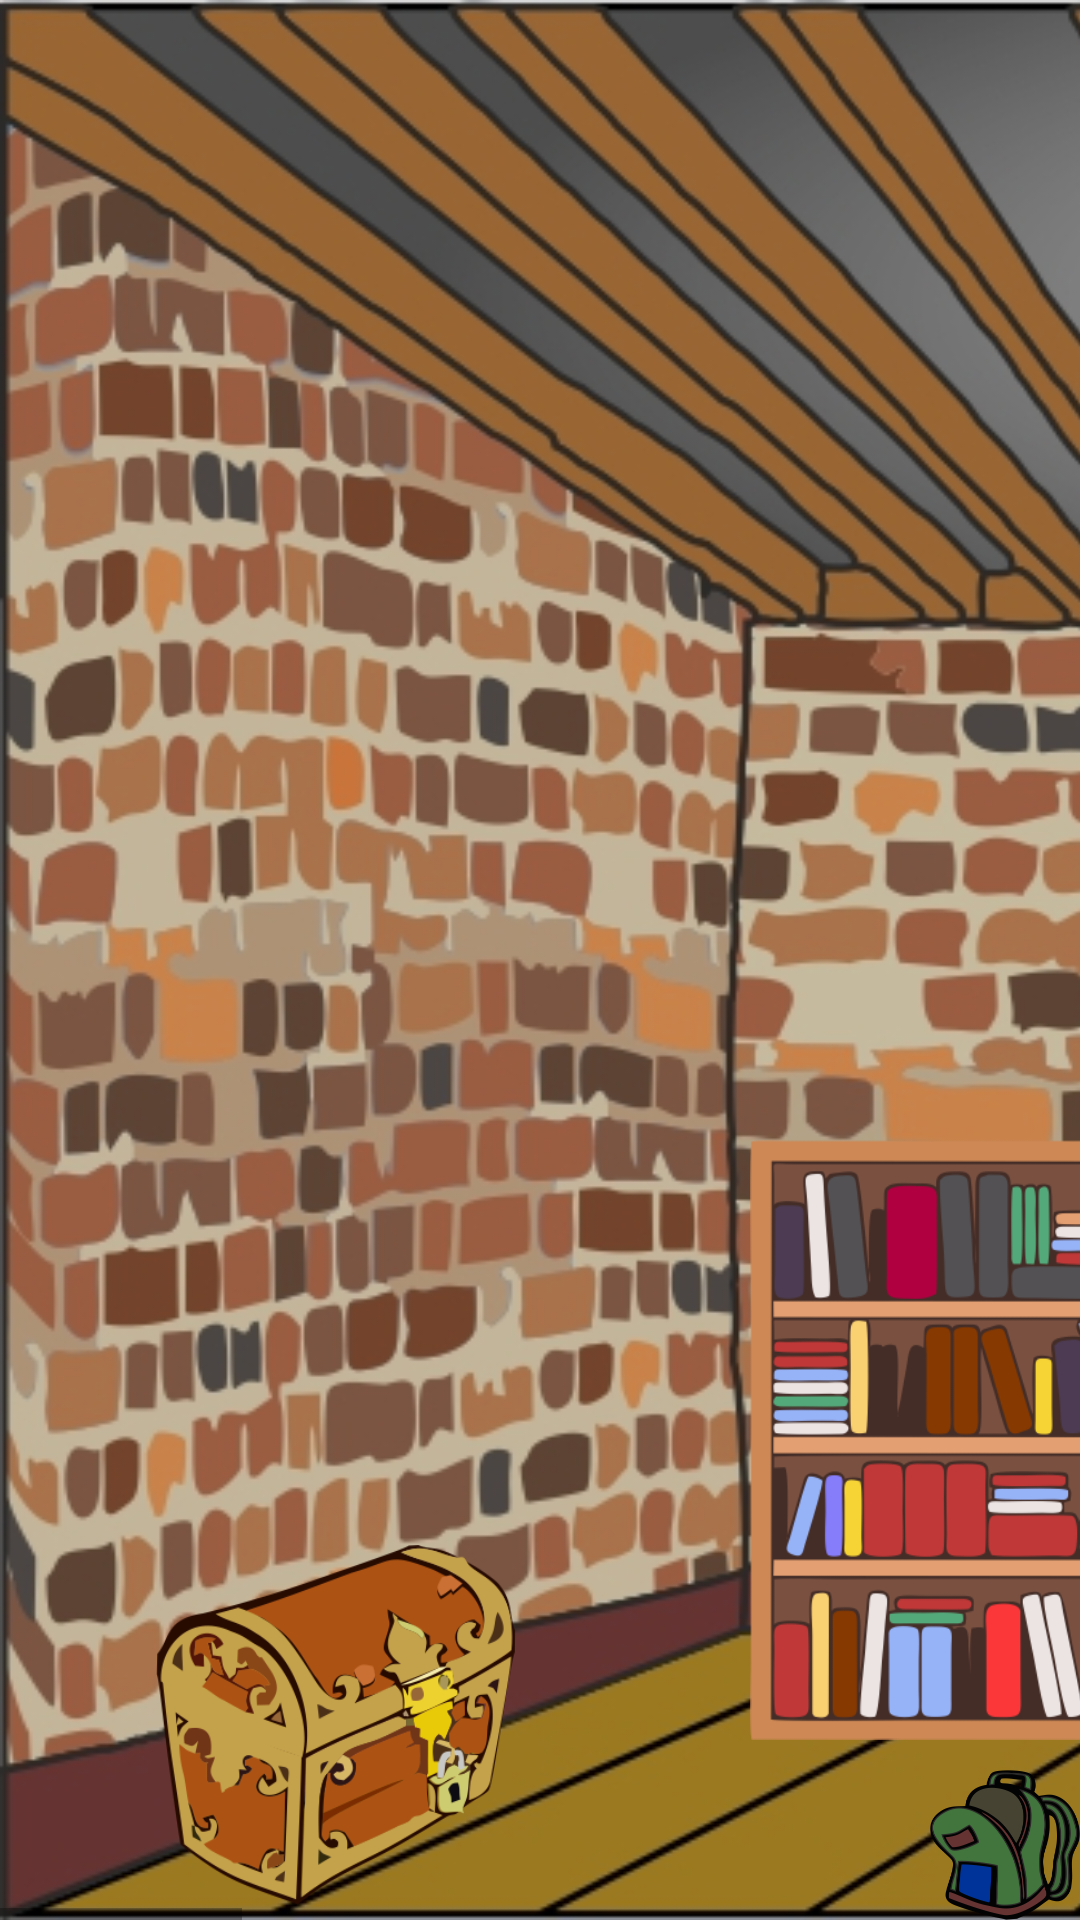

Screen size 1080*1920. Icon name, then its center in pixels as (x,y):
backpack: (1005,1845)
chest: (336,1725)
